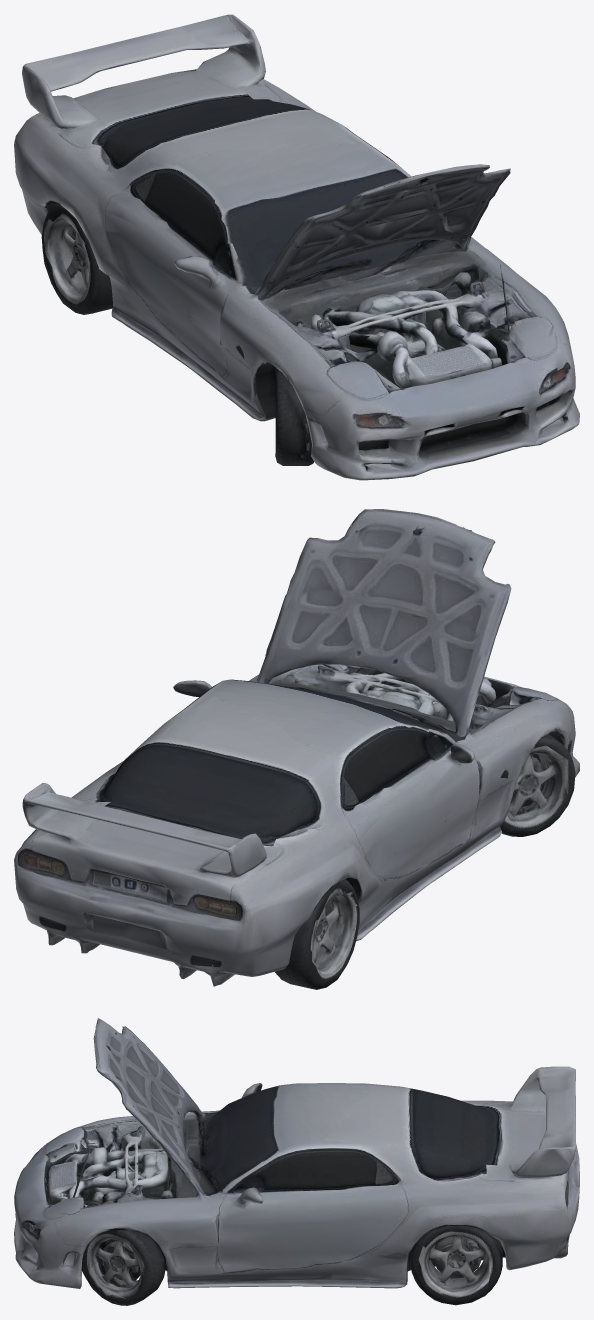
Rendered from car.glb.
3 views of the same model, one above another, from view 1: azimuth 30°, elevation 25°; view 2: azimuth 150°, elevation 25°; view 3: azimuth 270°, elevation 25° (orthographic). The views are drawn at different scales.
Visible parts, largest first — view 1: neo_car; view 2: neo_car; view 3: neo_car.
Part boxes in pixels (x1=…): neo_car: x1=14, y1=14, x2=579, y2=480; neo_car: x1=14, y1=509, x2=579, y2=989; neo_car: x1=14, y1=1018, x2=579, y2=1305.
Size of the model in its own units: 0.4741 by 0.4165 by 0.9789.
1 material, 1 textured.
